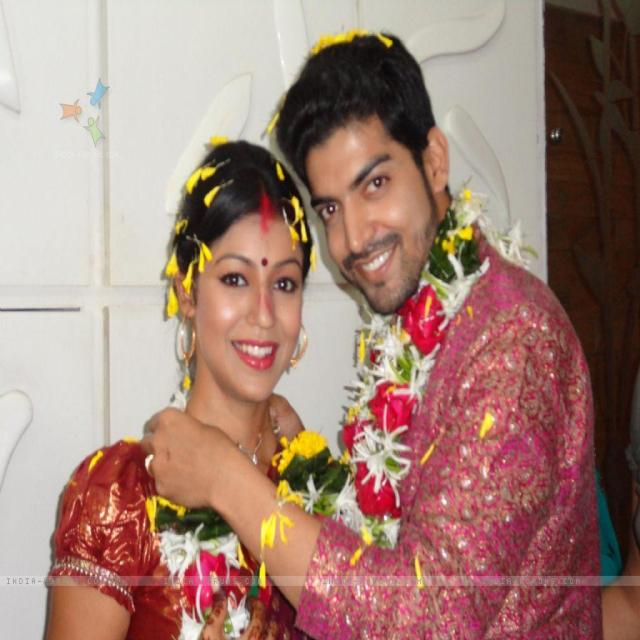Face: (301, 112, 444, 319), (196, 203, 310, 420)
